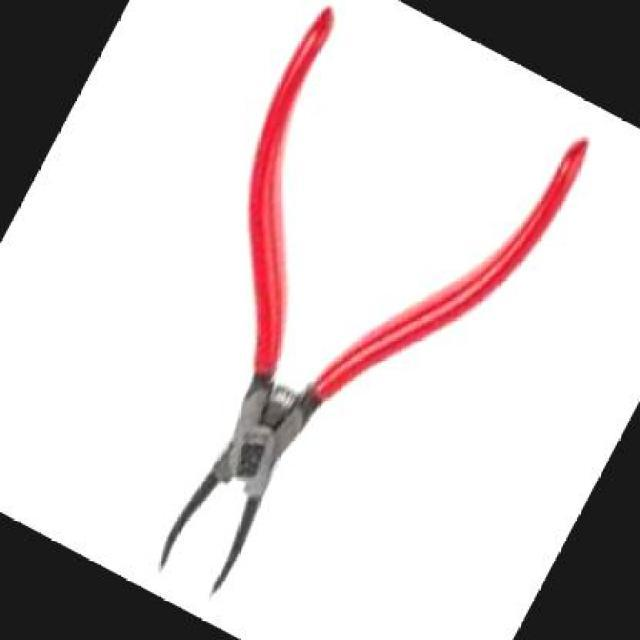pliers: (19, 0, 618, 638)
